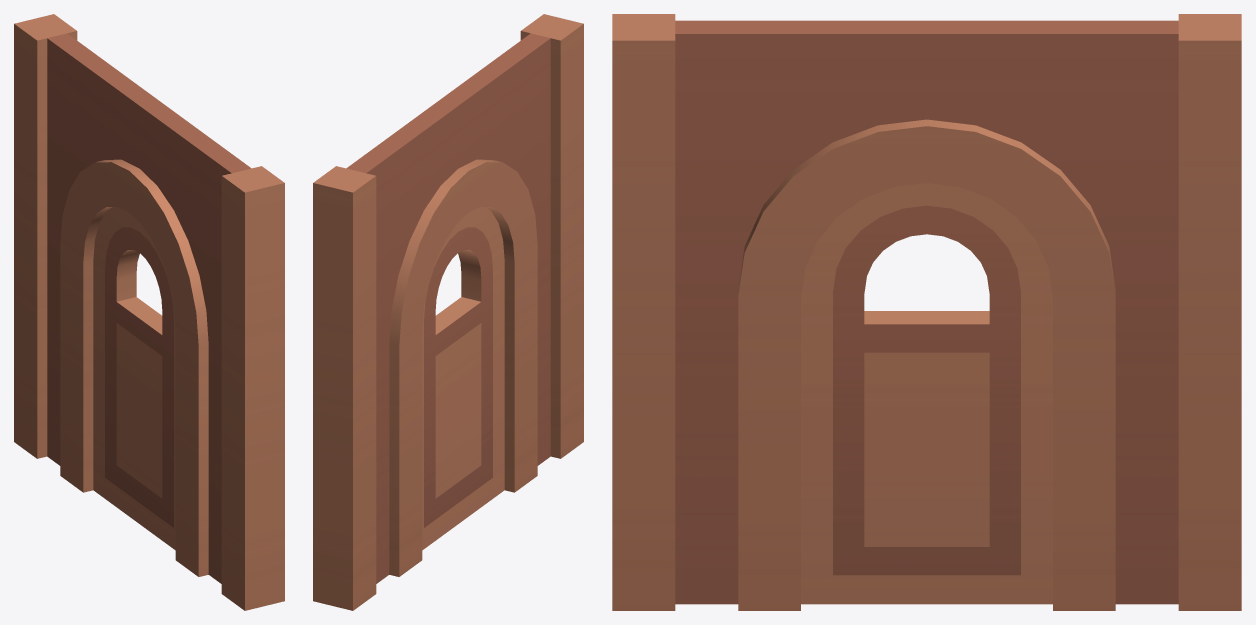
File: wall-wood-door.fbx
3 renders of one model, left to right at view 1: azimuth 30°, elevation 25°; view 2: azimuth 150°, elevation 25°; view 3: azimuth 270°, elevation 25°, orthographic. The views are drawn at different scales.
Visible parts, largest first — view 1: wall-wood-door, door; view 2: wall-wood-door, door; view 3: wall-wood-door, door.
Part boxes in pixels (bbox=[...]): wall-wood-door: bbox=[14, 14, 284, 610]; door: bbox=[93, 207, 175, 550]; wall-wood-door: bbox=[313, 14, 583, 610]; door: bbox=[422, 207, 504, 550]; wall-wood-door: bbox=[612, 14, 1241, 610]; door: bbox=[801, 183, 1052, 604].
Size of the model in its own units: 10 by 100 by 100.
Materials: 1 (1 with a texture image).
